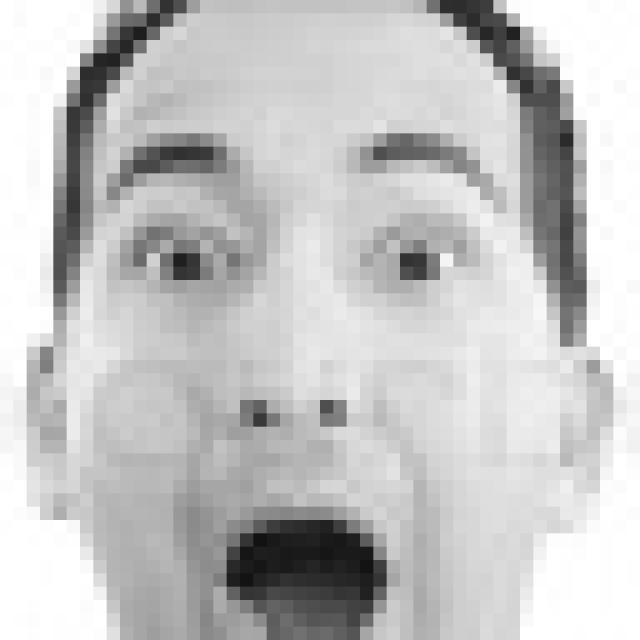surprise: (100, 126, 521, 640)
